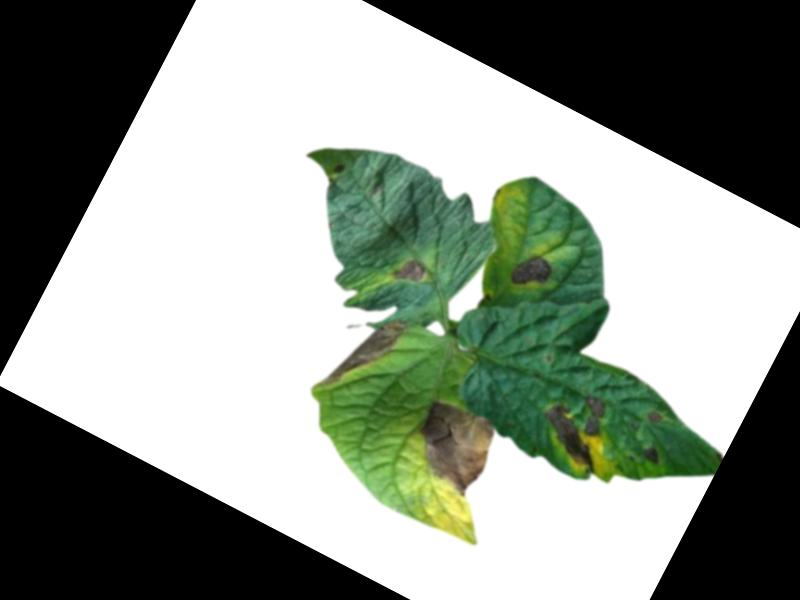Early_blight: (312, 296, 409, 411), (406, 394, 506, 500), (529, 377, 628, 475), (504, 246, 557, 297), (391, 251, 429, 289), (637, 440, 665, 467), (643, 405, 666, 426), (332, 159, 347, 176)
